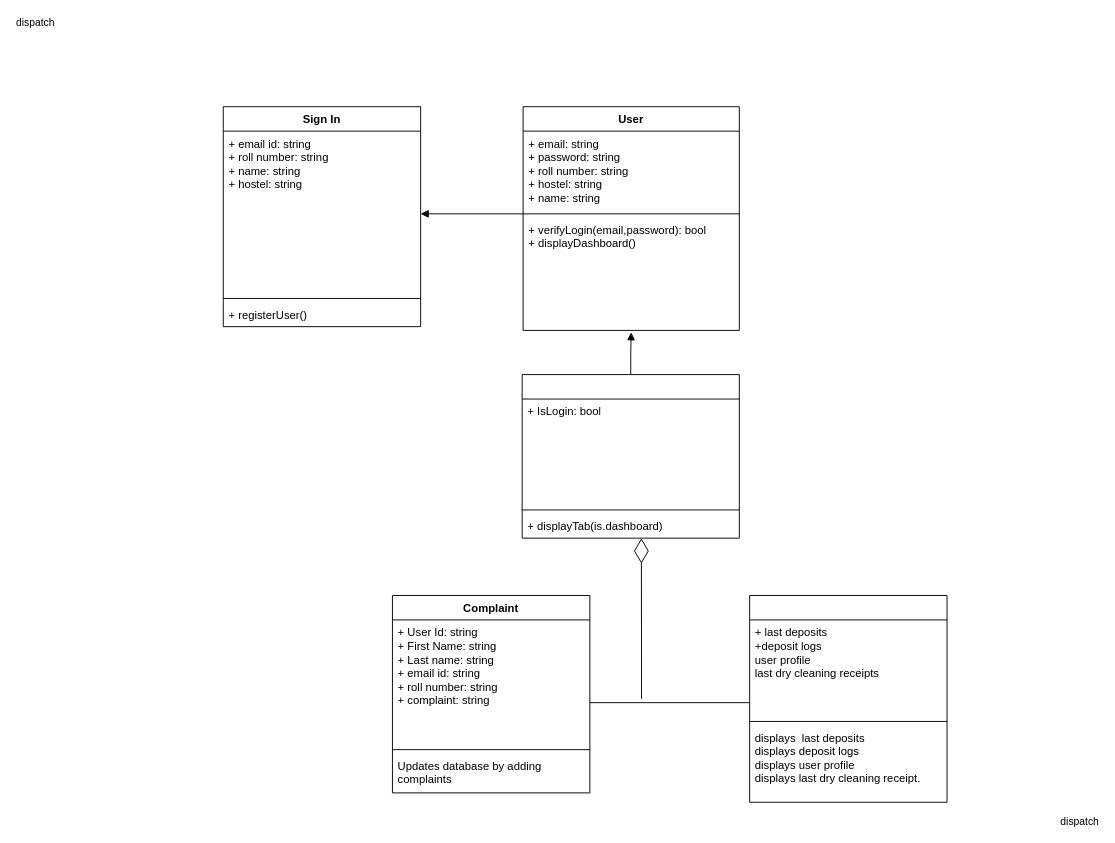
This 1115x843 diagram has some shape labels left out. The shapes that lost their labels are listed below. From the top down, each one's box as (x1, y1, x2, y2) in pixels, then its label:
(521, 374, 739, 538): UserActivity(Dashboard)
(749, 595, 947, 802): Dashboard components
